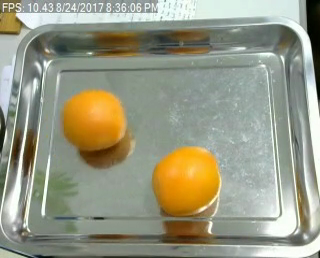Orange: (152, 145, 223, 214), (60, 89, 126, 150)
